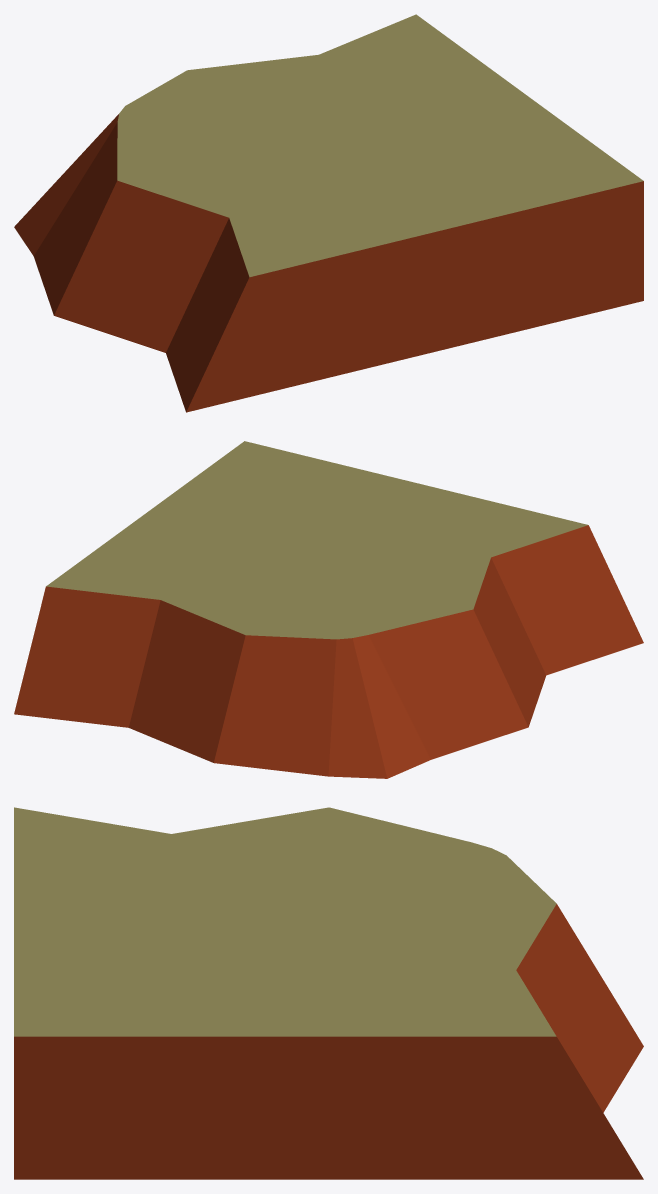
File: grass_end_cornerExt.fbx
The picture shows the model from 3 angles, top to bottom: view 1: azimuth 30°, elevation 25°; view 2: azimuth 150°, elevation 25°; view 3: azimuth 270°, elevation 25°; orthographic projection. The views are drawn at different scales.
Visible parts, largest first — view 1: grass_end_extCorner; view 2: grass_end_extCorner; view 3: grass_end_extCorner.
Part boxes in pixels (bbox=[...]): grass_end_extCorner: bbox=[14, 14, 643, 412]; grass_end_extCorner: bbox=[14, 441, 643, 778]; grass_end_extCorner: bbox=[14, 807, 643, 1179].
Bounding box in the file's own units: 200 × 50 × 200.
1 material, 1 textured.
